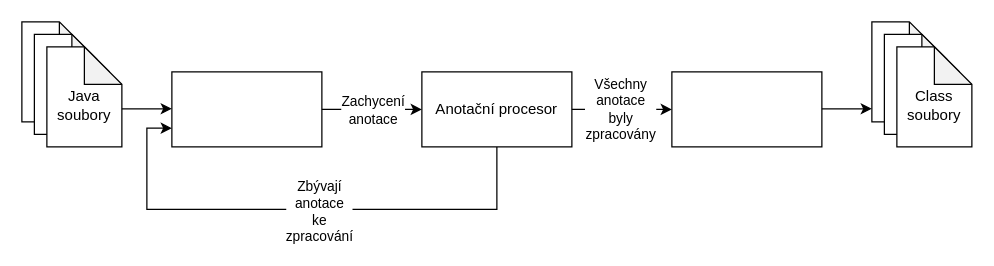
Some shapes in this 994 by 266 pixel diagram are drawn without their labels. The box of each missing label's shape, as (x1, y1, x2, y2) in pixels:
Analýza zdrojového kódu: (171, 71, 322, 147)
Generování class souborů: (671, 71, 822, 147)
